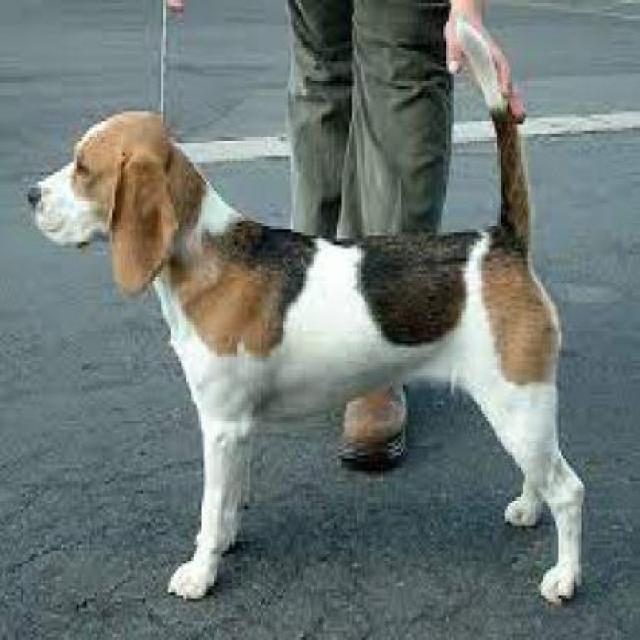Dog: (23, 17, 595, 606)
